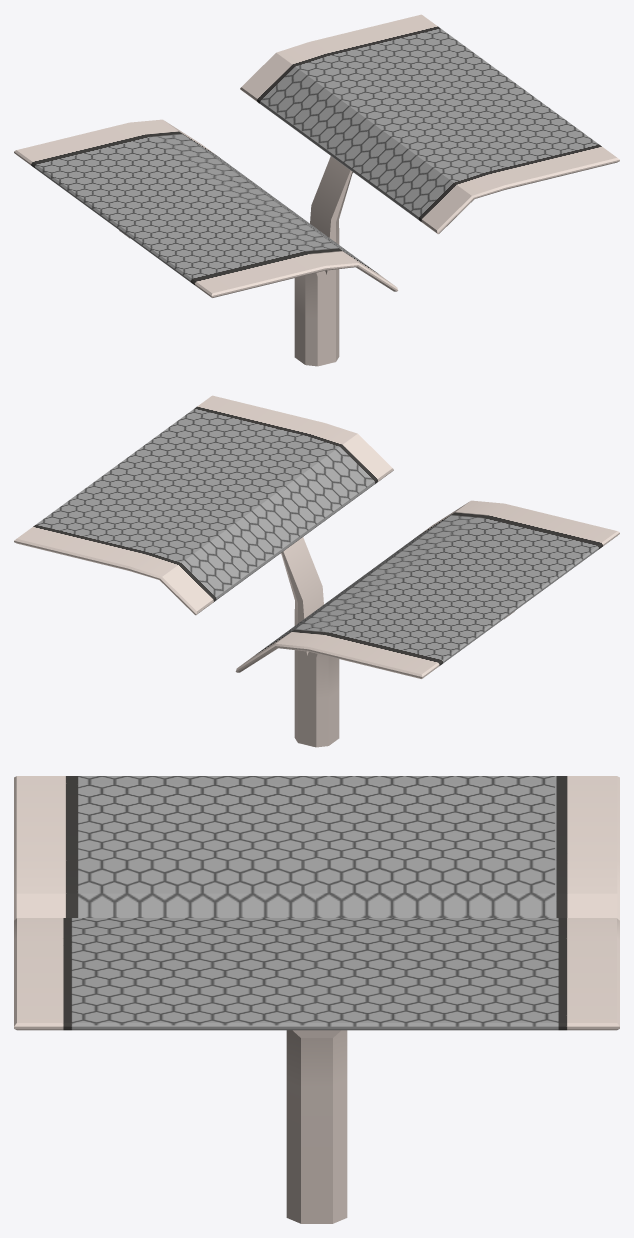
File: station.fbx
3 renders of one model, top to bottom at view 1: azimuth 30°, elevation 25°; view 2: azimuth 150°, elevation 25°; view 3: azimuth 270°, elevation 25°, orthographic. The views are drawn at different scales.
Parts seen in each view (by area): view 1: GasStation; view 2: GasStation; view 3: GasStation.
Boxes of the visible parts, x1,y1,x2,y2 form: GasStation: [14, 14, 619, 366]; GasStation: [14, 395, 619, 747]; GasStation: [14, 776, 619, 1223].
Bounding box in the file's own units: 1790 × 928 × 1500.
1 material, 1 textured.
